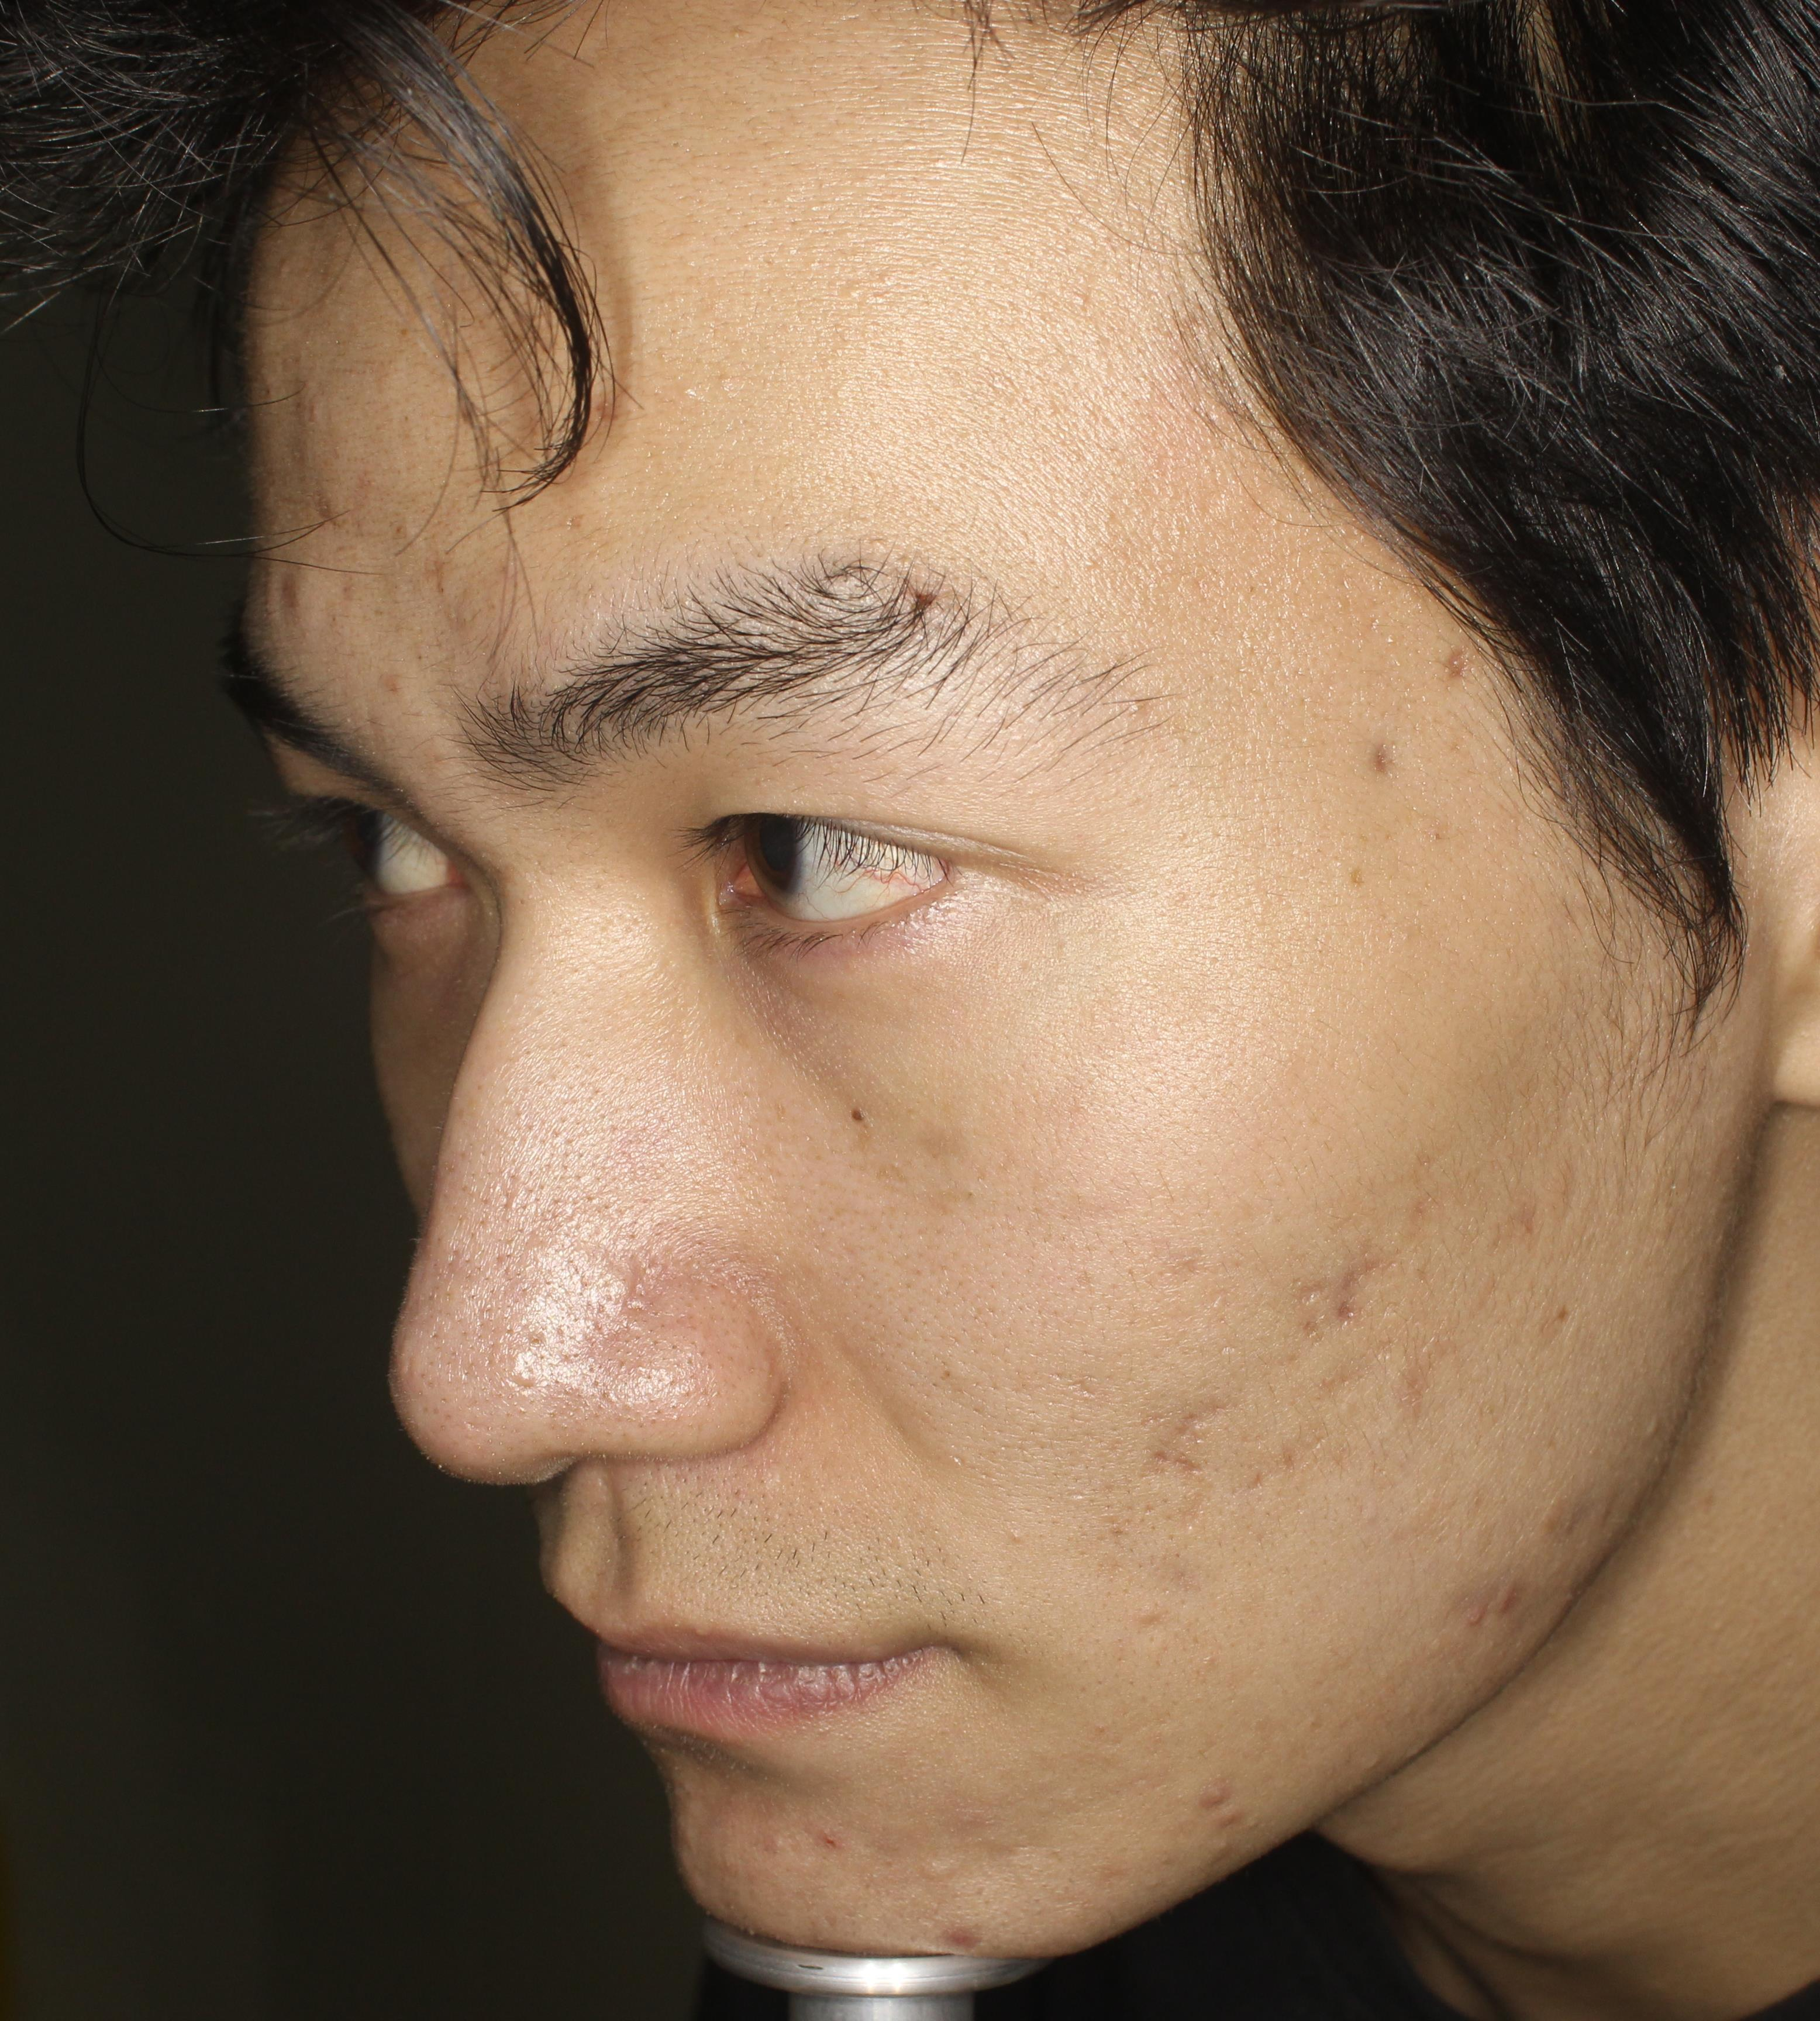fore: (239, 550, 337, 630), (1470, 1549, 1539, 1649), (1556, 1482, 1606, 1557)
